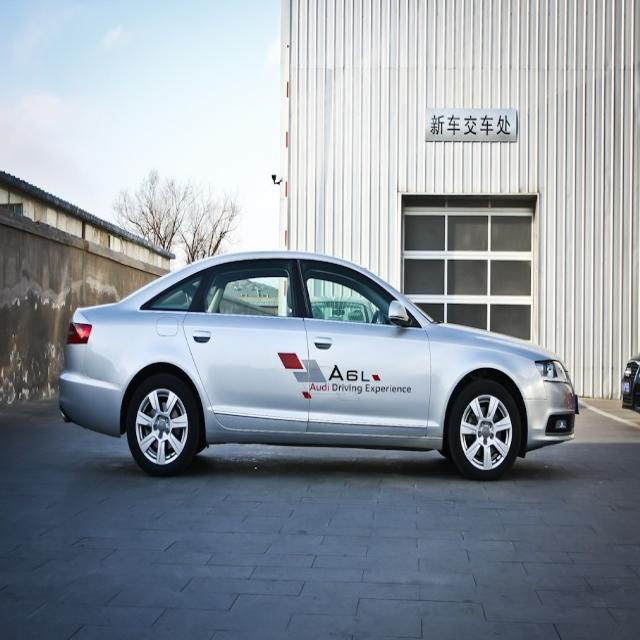back_right_side_light: (66, 319, 94, 352)
door: (181, 258, 303, 440)
front_bumper: (522, 375, 580, 452)
front_right_side_door: (296, 254, 432, 441)
front_right_side_light: (534, 358, 568, 385)
front_right_side_mirror: (388, 298, 410, 327)
rear_bumper: (60, 338, 130, 439)
wheel: (126, 372, 198, 476), (450, 379, 520, 478)
